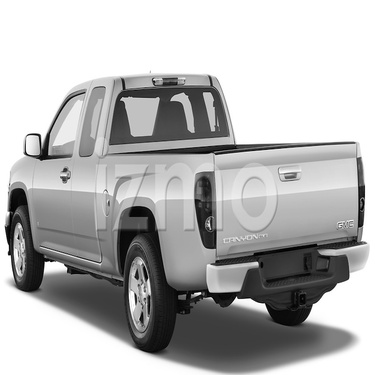car: (1, 65, 369, 363)
